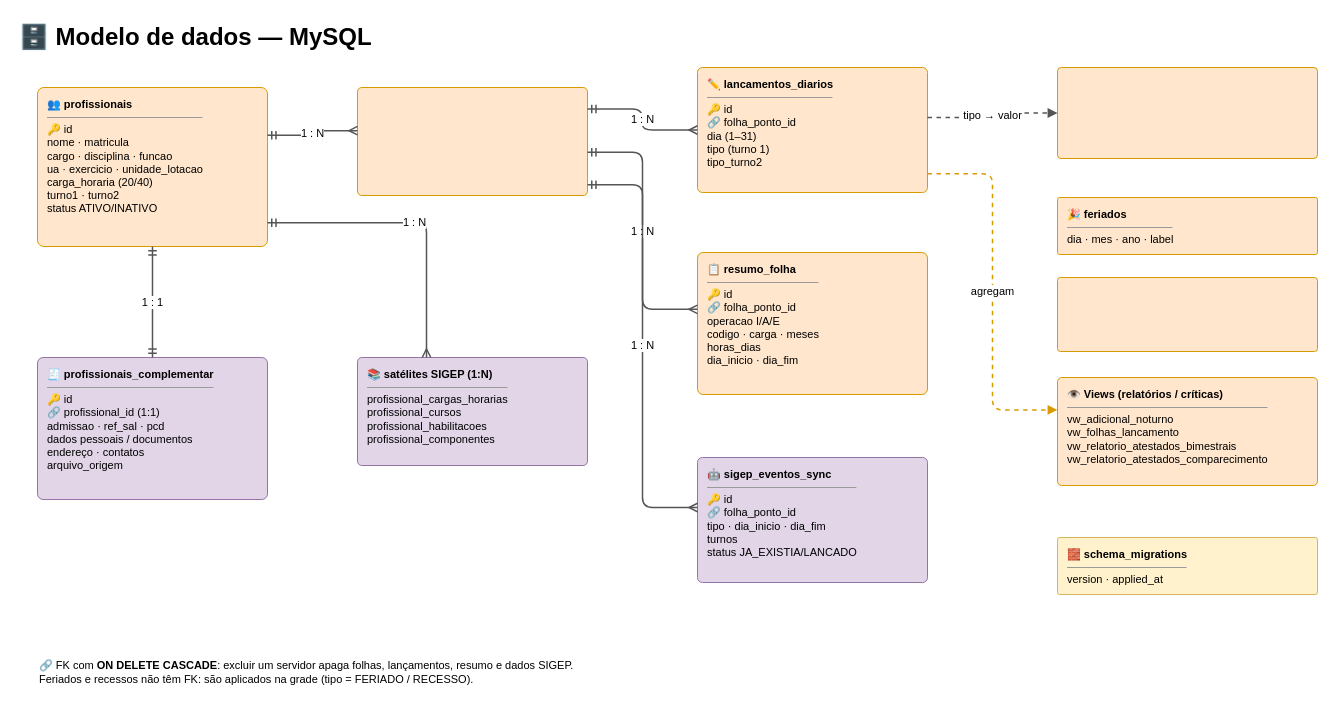
Image size: 1335x714. Some labels were removed from this diagram. Here are the shapes that lost their labels. From the top down, the box of each, then its label:
(1056, 66, 1318, 158): 🏷️ tipos_lancamento 🔑 valor label codigo oficial (ex.: 99902)
(356, 86, 588, 196): 📄 folhas_ponto 🔑 id 🔗 profissional_id mes · ano observacoes
(1056, 276, 1318, 352): 🏖️ recessos dia/mes/ano_inicio dia/mes/ano_fim · label
